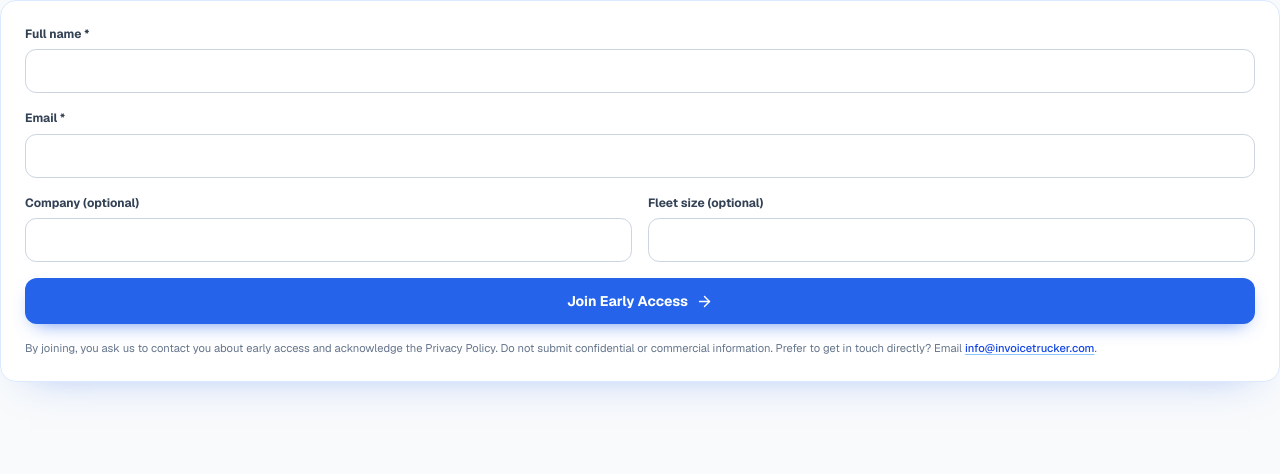
Test: NewsletterForm › surfaces duplicate registration as an accessible error
The image size is (1280, 474).
Type "Avery Demo" into the field labelled "Full name *". click: (640, 71)
box: [25,49,1255,93]
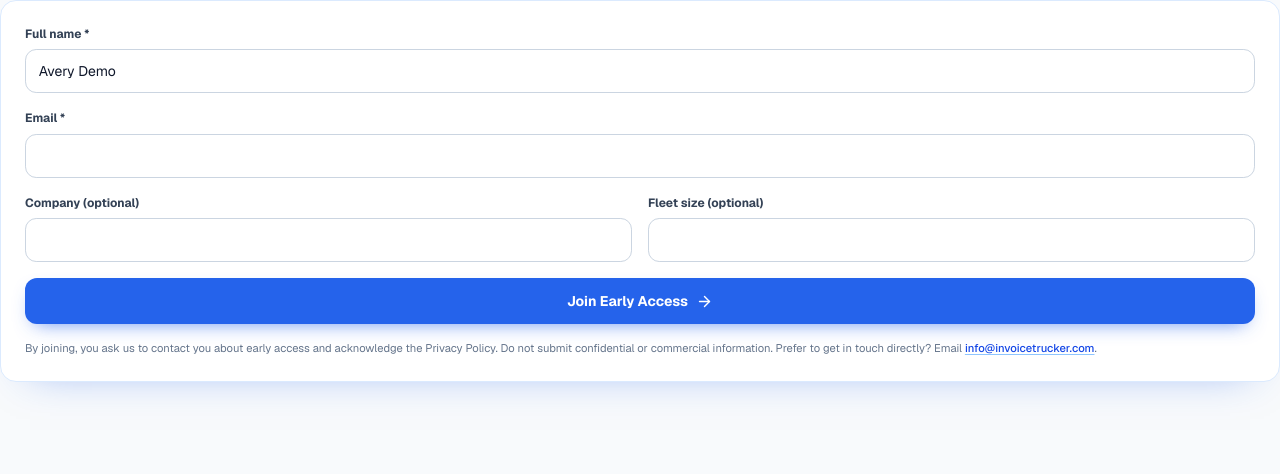
Type "avery@invoicetrucker.example" into the field labelled "Email *". click: (640, 156)
box: [25,134,1255,178]
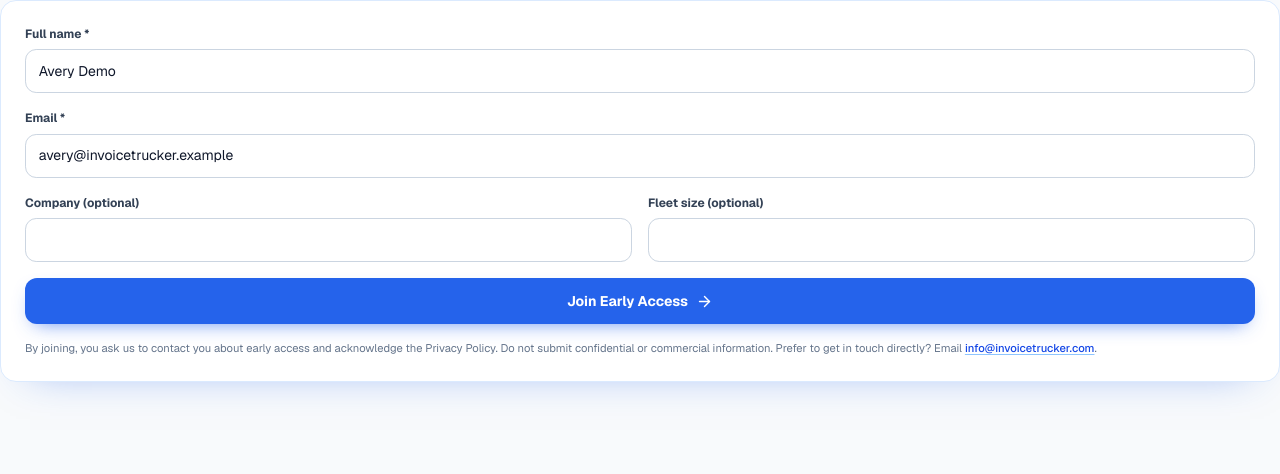
Click the button "Join Early Access". click: (640, 301)
box: [25,278,1255,324]
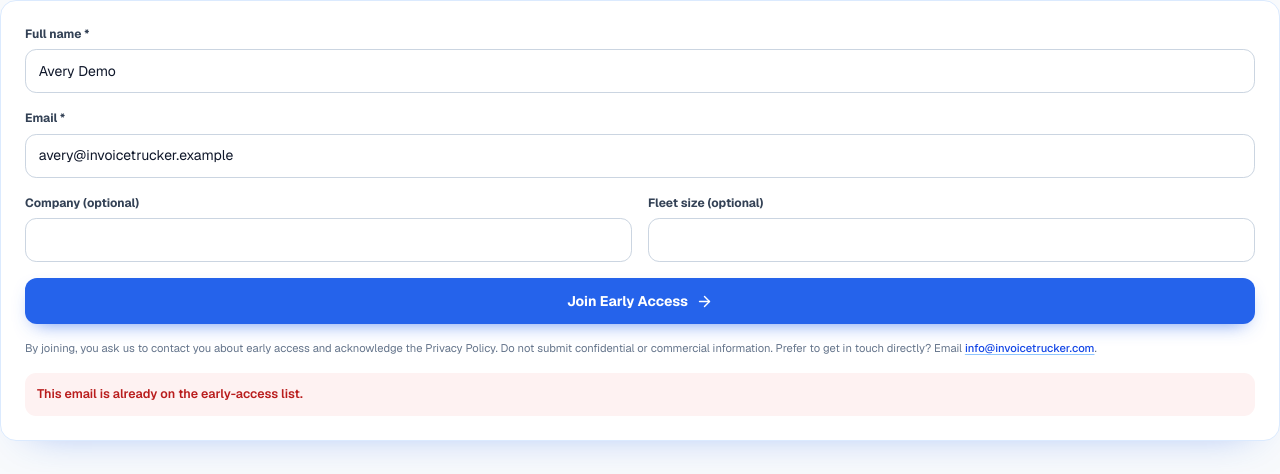
Expected: the message shows "already on the early-access list", [37,385,303,402]
